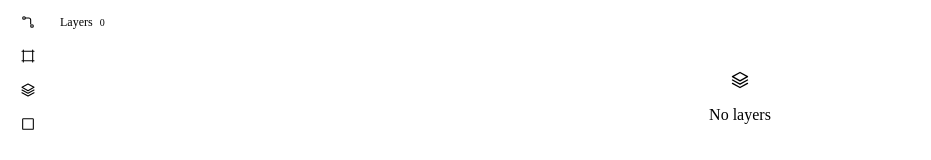
CanvasSidebar › keeps icon-first workspace views named and exposes an accessible empty layer state
Check: the message reads "No layers", box 709,106 -> 771,123
Click the button named "Assets". click: (28, 124)
box: 12,108 -> 44,140
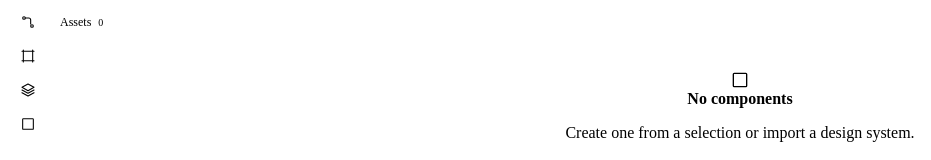
Check: the text "No components" is shown, box 687,90 -> 793,108
